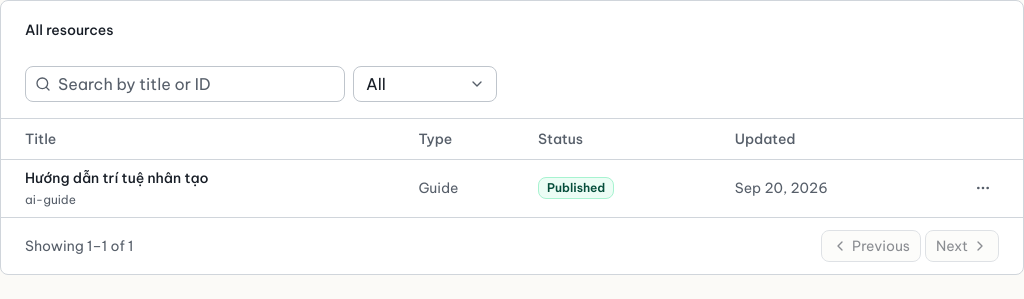
Studio content list table › names the row menu after the record and links Edit to the editor
The image size is (1024, 299).
Click the button named "Actions for Hướng dẫn trí tuệ nhân tạo": [983, 188] box [967,172,999,204]
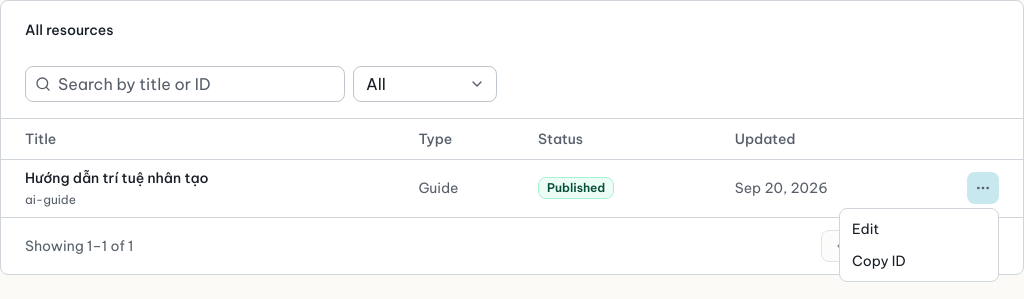
Now the menu item "Copy ID" is shown, box [852,252,906,270]
Press Escape
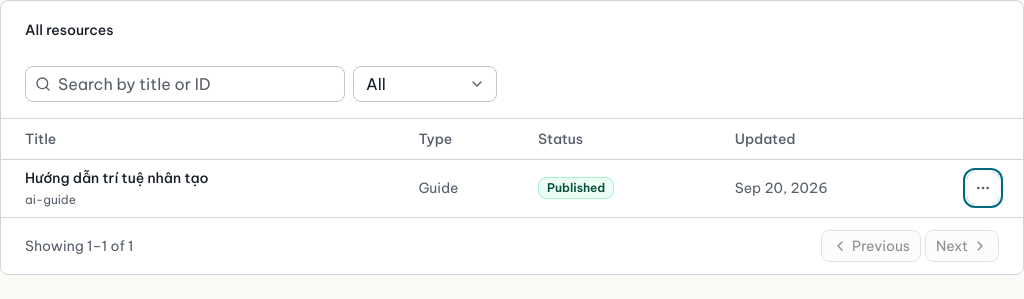
Now the menu is gone
